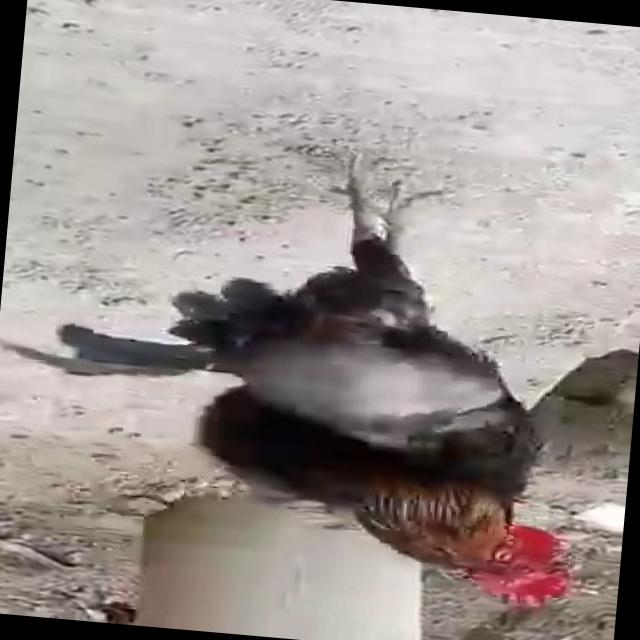wing flap: (0, 92, 626, 622)
